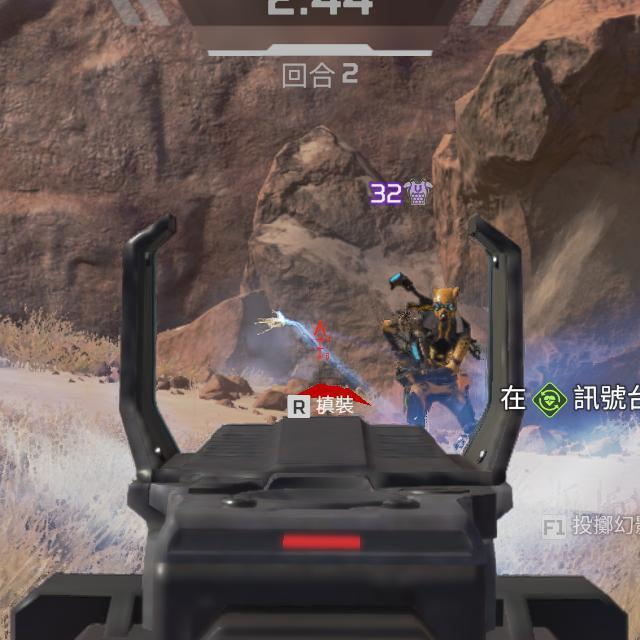avatar: (381, 282, 475, 427)
